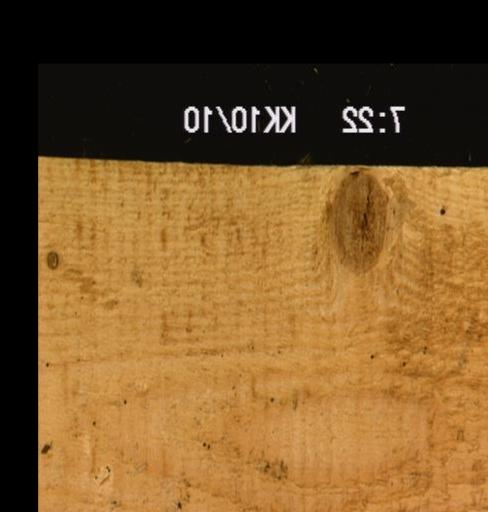dry_knot: (45, 248, 60, 269)
sound_knot: (329, 167, 392, 274)
